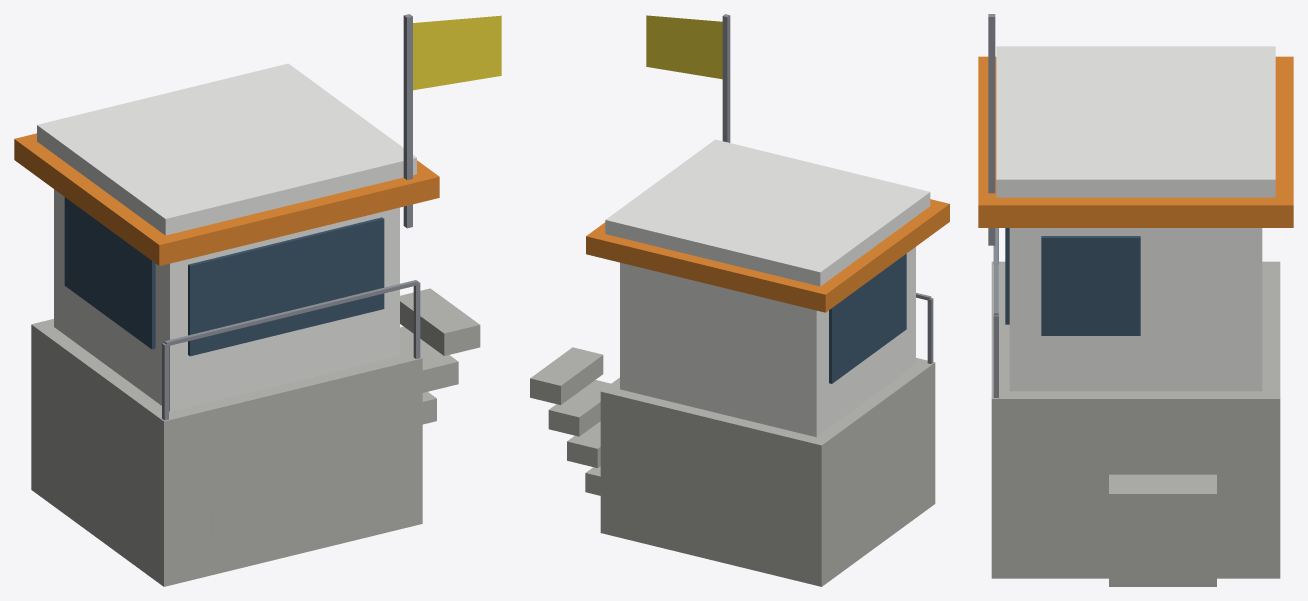
File: posto_fiscal.glb
3 views of the same model, side by side, from view 1: azimuth 30°, elevation 25°; view 2: azimuth 150°, elevation 25°; view 3: azimuth 270°, elevation 25° (orthographic). The views are drawn at different scales.
Visible parts, largest first — view 1: con, br, vi, lar, am, aco; view 2: br, con, lar, vi, am, aco; view 3: br, con, lar, vi, aco.
Boxes of the visible parts, x1,y1,x2,y2 form: con: (31, 288, 480, 586); br: (37, 63, 416, 411); vi: (64, 197, 384, 356); lar: (14, 133, 439, 265); am: (413, 15, 501, 90); aco: (162, 14, 420, 420); br: (605, 139, 930, 437); con: (530, 347, 935, 586); lar: (586, 199, 949, 312); vi: (829, 254, 906, 383); am: (646, 15, 722, 79); aco: (722, 14, 933, 363); br: (996, 46, 1275, 391); con: (991, 261, 1280, 586); lar: (978, 56, 1293, 227); vi: (1005, 228, 1140, 335); aco: (988, 14, 998, 397).
Size of the model in its own units: 5.3 by 6.8 by 3.5.
